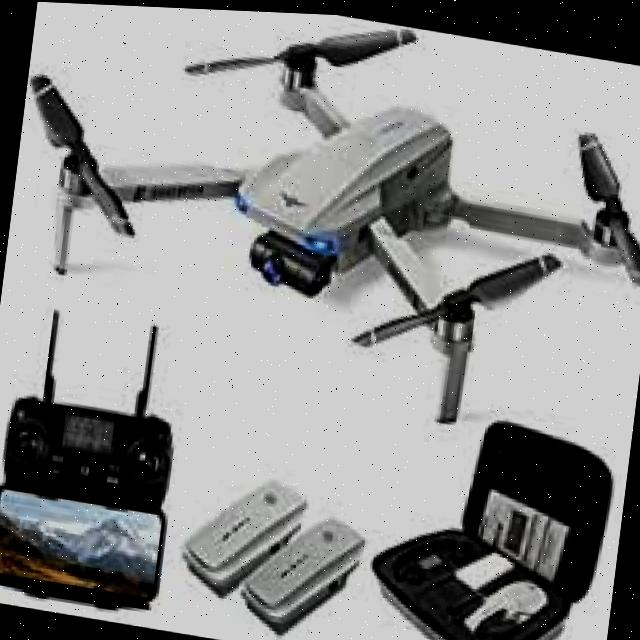drone: (0, 0, 640, 460)
